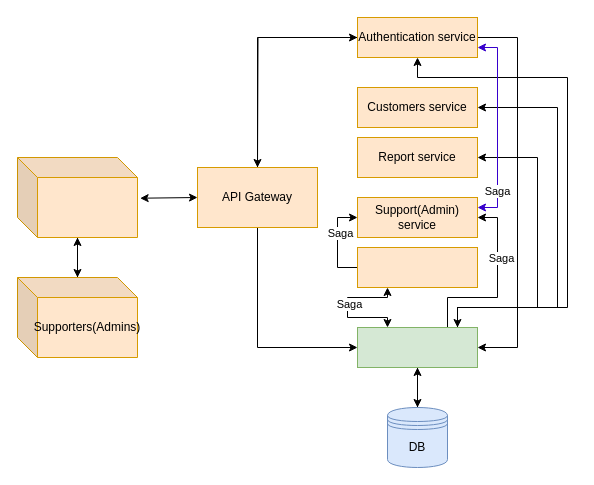
This 594x485 diagram has some shape labels left out. The shapes that lost their labels are listed below. From the top down, each one's centre as x and y in pixels, then its label:
At point (77, 197): "BFF's".
At point (417, 267): "Accounting service".
At point (417, 347): "Inventory service".
